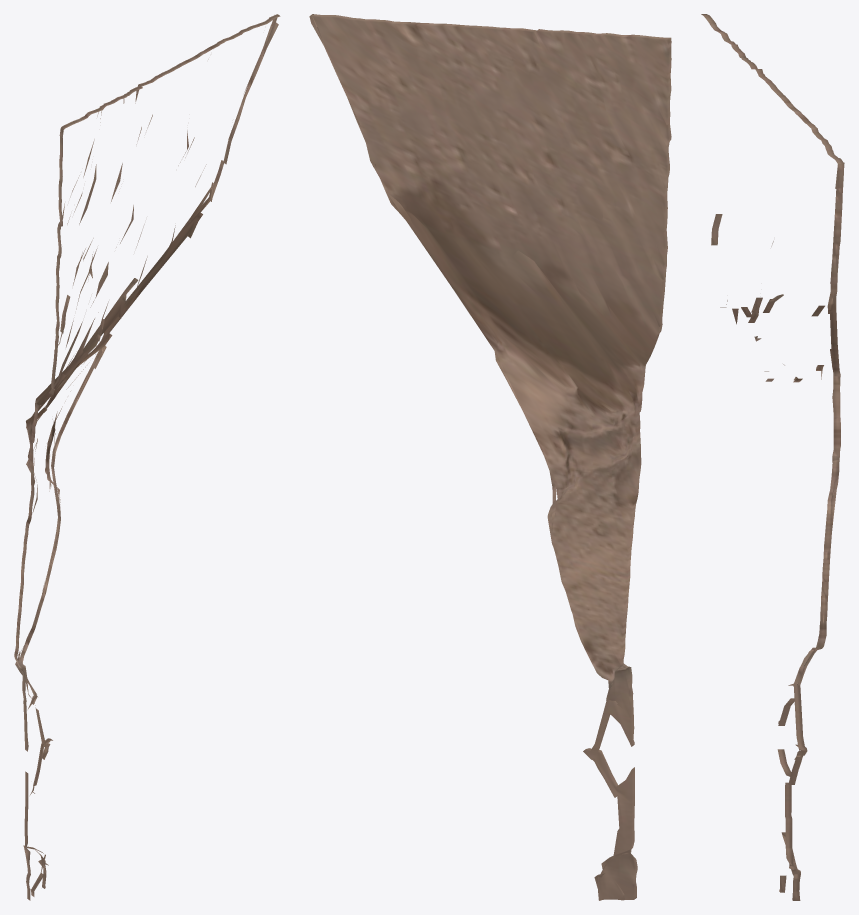
The picture shows the model from 3 angles, left to right: view 1: azimuth 30°, elevation 25°; view 2: azimuth 150°, elevation 25°; view 3: azimuth 270°, elevation 25°; orthographic projection. The views are drawn at different scales.
Bounding box in the file's own units: 0.5357 × 1.46 × 0.2176.
Materials: 1 (1 with a texture image).
